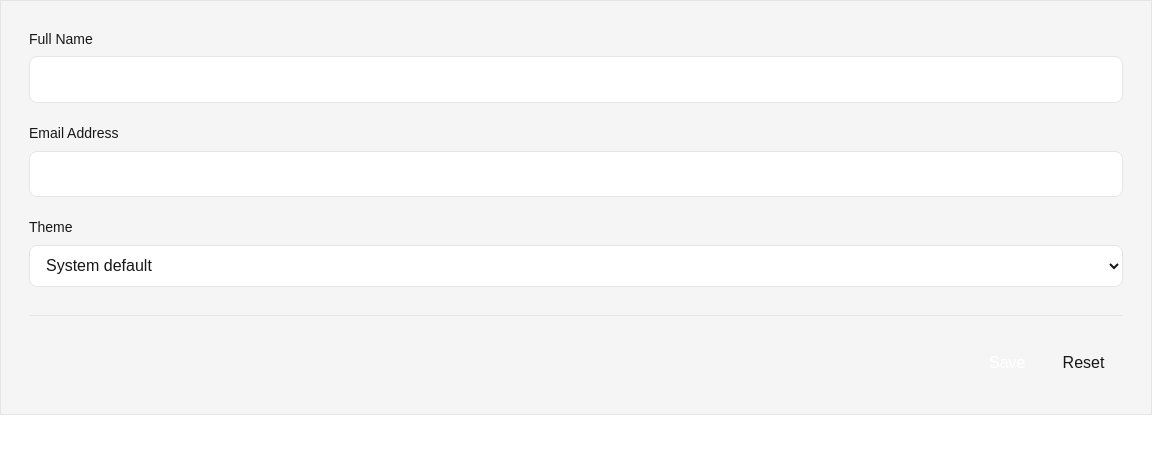
Test case: SettingsForm › shows a required email validation message
Click the field labelled "Email Address". click: x=576, y=174
box: [29,151,1123,197]
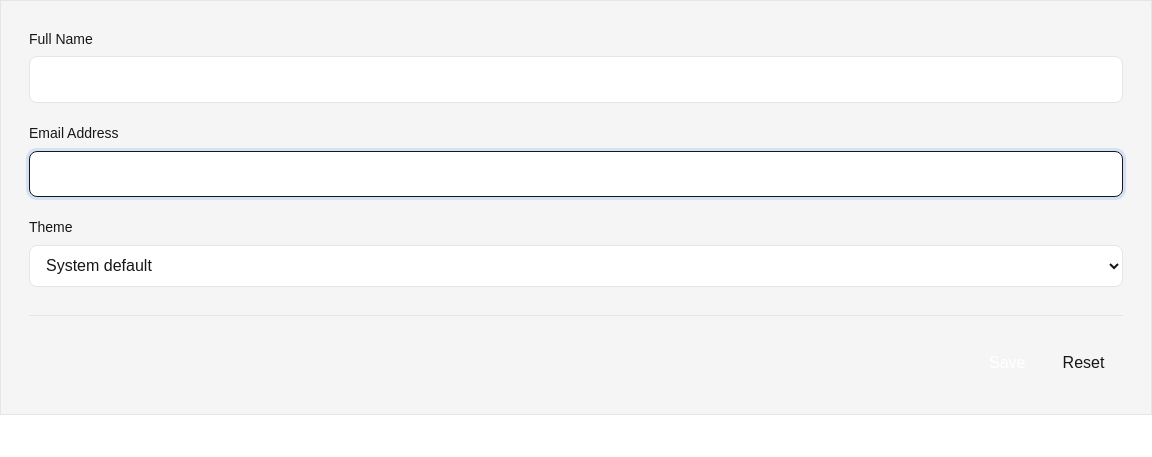
Press Tab
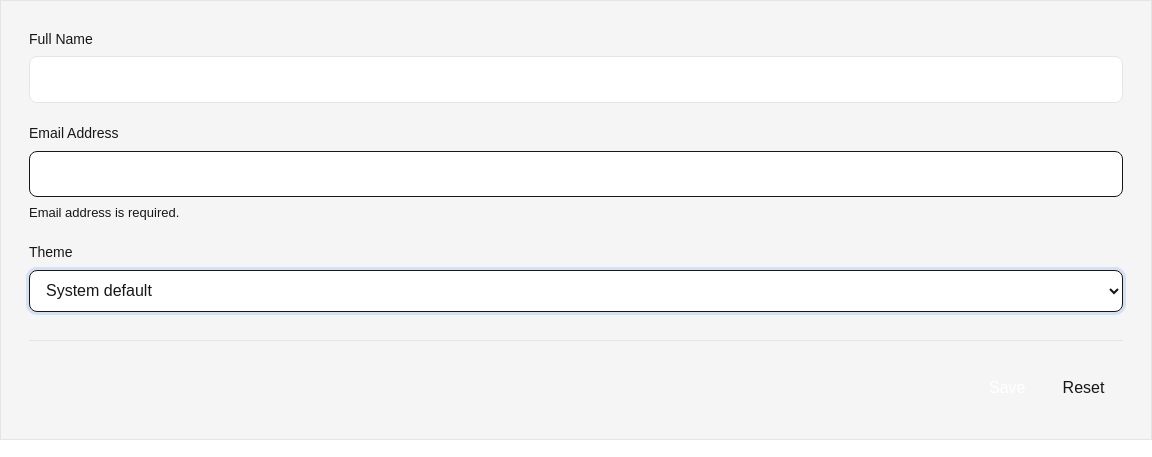
Check: the text "Email address is required." is shown, box [29,205,179,220]
